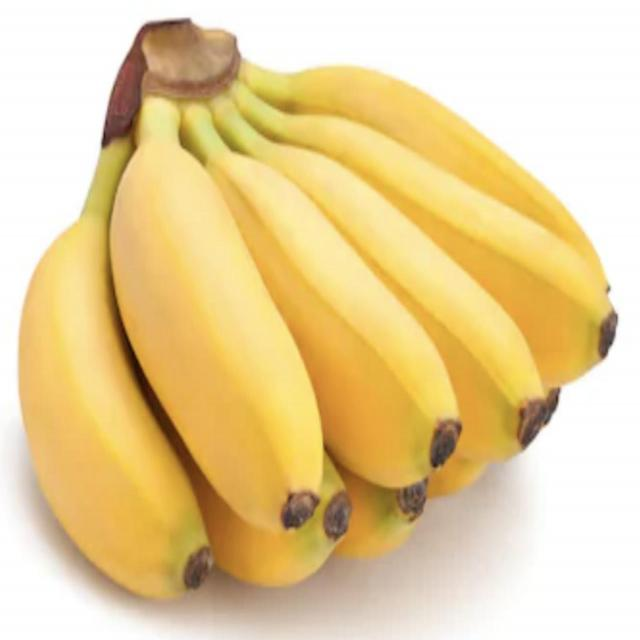banana: (90, 100, 349, 586), (208, 39, 468, 496), (0, 107, 229, 610), (266, 110, 568, 456)
